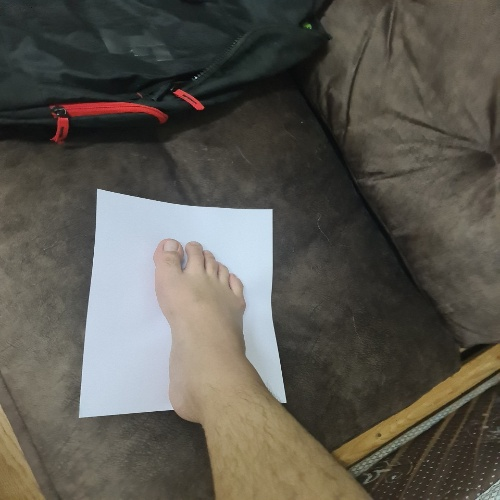Top_Foot: (51, 180, 315, 425)
